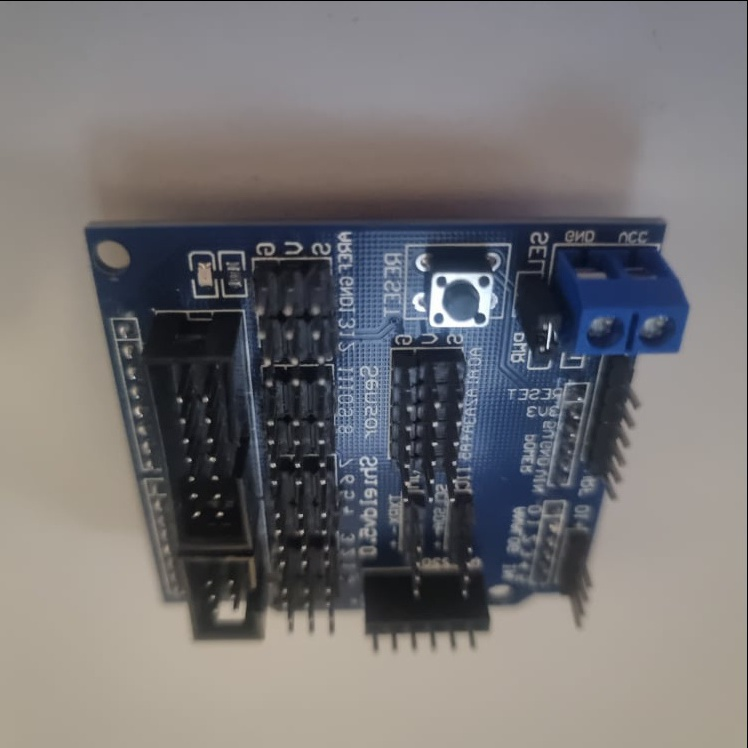5V EXPANSION: (81, 211, 691, 649)
